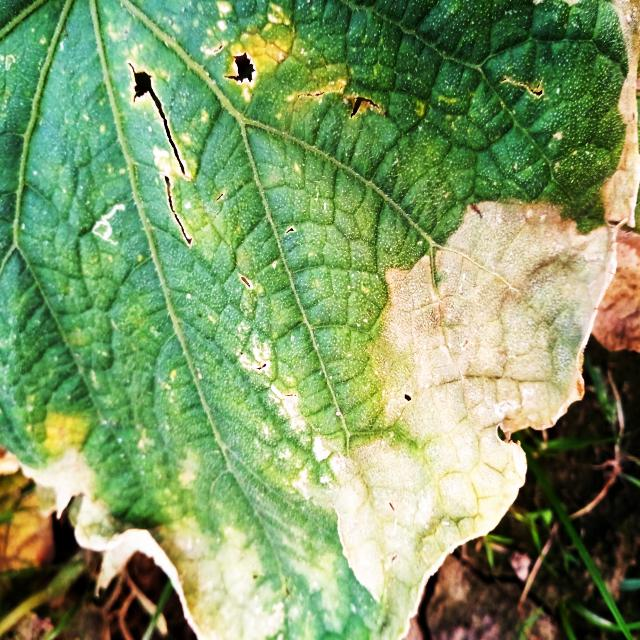Gummy-Stem-Blight: (328, 1, 638, 638)
